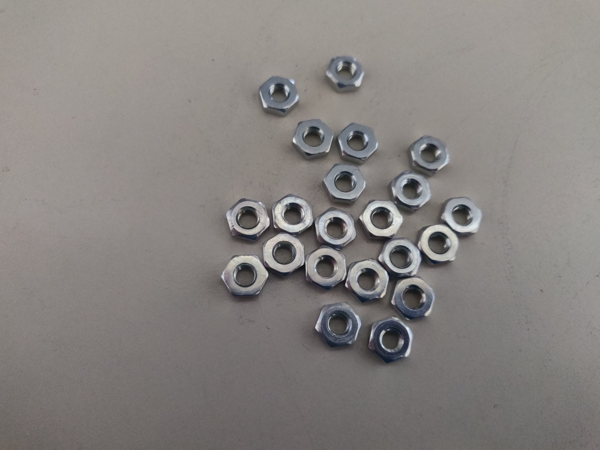nut: (314, 303, 362, 349), (220, 256, 268, 300), (369, 317, 412, 365), (226, 199, 269, 243), (304, 246, 347, 289), (392, 277, 434, 321), (359, 200, 403, 240), (264, 234, 305, 276), (315, 210, 357, 251), (347, 260, 389, 301), (390, 172, 431, 214), (440, 197, 482, 238), (324, 164, 367, 204), (418, 225, 458, 267), (257, 78, 300, 117), (291, 120, 335, 158), (272, 195, 314, 234), (337, 123, 379, 161), (380, 239, 422, 277), (410, 136, 450, 175), (327, 58, 364, 94)
